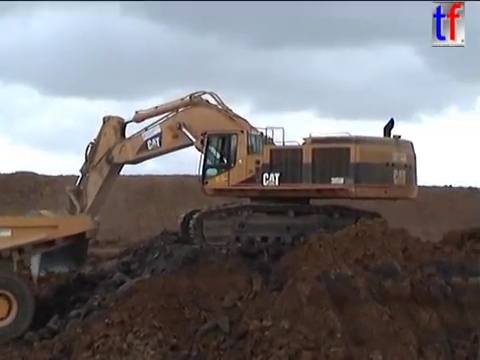excavator: (19, 87, 421, 287)
truck: (1, 211, 98, 343)
